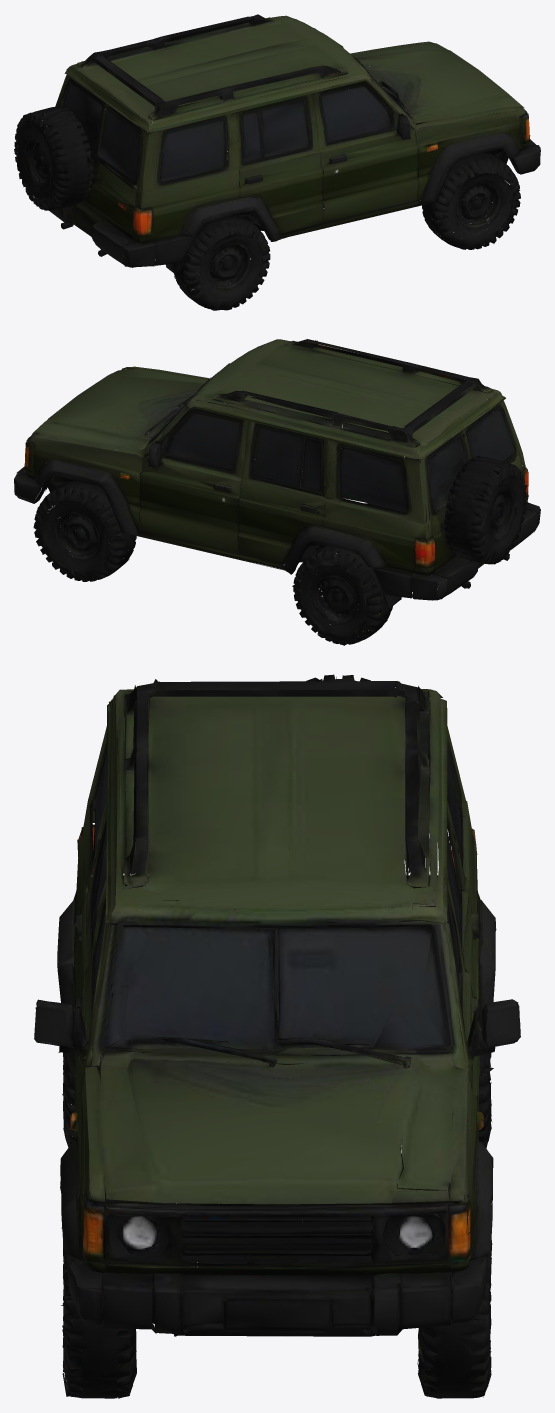
Rendered from dzip.glb.
3 renders of one model, top to bottom at view 1: azimuth 30°, elevation 25°; view 2: azimuth 150°, elevation 25°; view 3: azimuth 270°, elevation 25°, orthographic. The views are drawn at different scales.
Visible parts, largest first — view 1: Body, Wheel_FR, Wheel_RR; view 2: Body, Wheel_FL, Wheel_RL; view 3: Body, Wheel_FR, Wheel_FL, Wheel_RL, Wheel_RR.
Boxes of the visible parts, left/top/right/bottom form: Body: left=14, top=14, right=540, bottom=304; Wheel_FR: left=422, top=152, right=520, bottom=249; Wheel_RR: left=174, top=215, right=270, bottom=310; Body: left=14, top=339, right=540, bottom=635; Wheel_FL: left=33, top=480, right=136, bottom=581; Wheel_RL: left=292, top=545, right=392, bottom=645; Body: left=34, top=674, right=520, bottom=1395; Wheel_FR: left=61, top=1227, right=133, bottom=1398; Wheel_FL: left=421, top=1239, right=492, bottom=1398; Wheel_RL: left=478, top=966, right=493, bottom=1148; Wheel_RR: left=62, top=1052, right=74, bottom=1147.
Bounding box in the file's own units: 1 × 0.4407 × 0.4691.
Materials: 1 (1 with a texture image).
